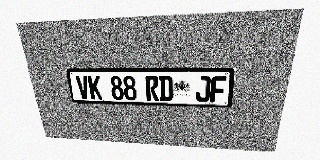8: (109, 76, 124, 100), (122, 76, 137, 100)
D: (159, 76, 173, 101)
F: (210, 76, 227, 102)
J: (195, 76, 211, 102)
K: (87, 76, 103, 99)
R: (145, 76, 159, 101)
V: (75, 75, 91, 99)
